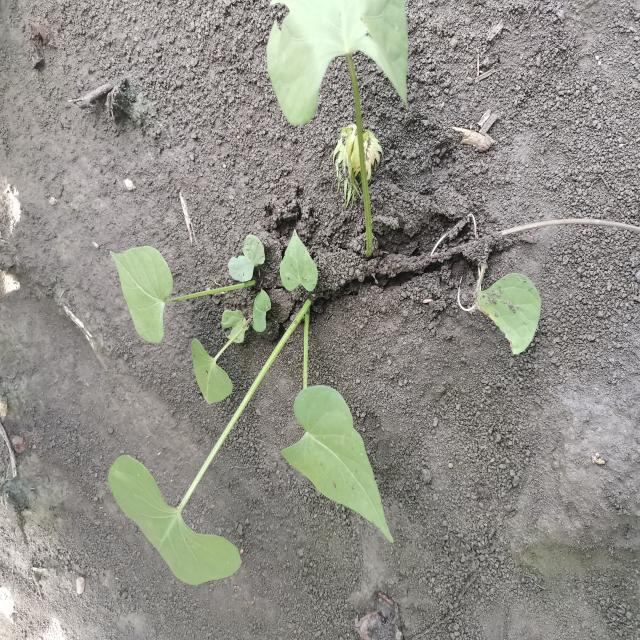MorningGlory: (106, 1, 543, 591)
